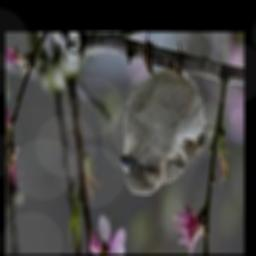Sparrow: (118, 35, 215, 196)
